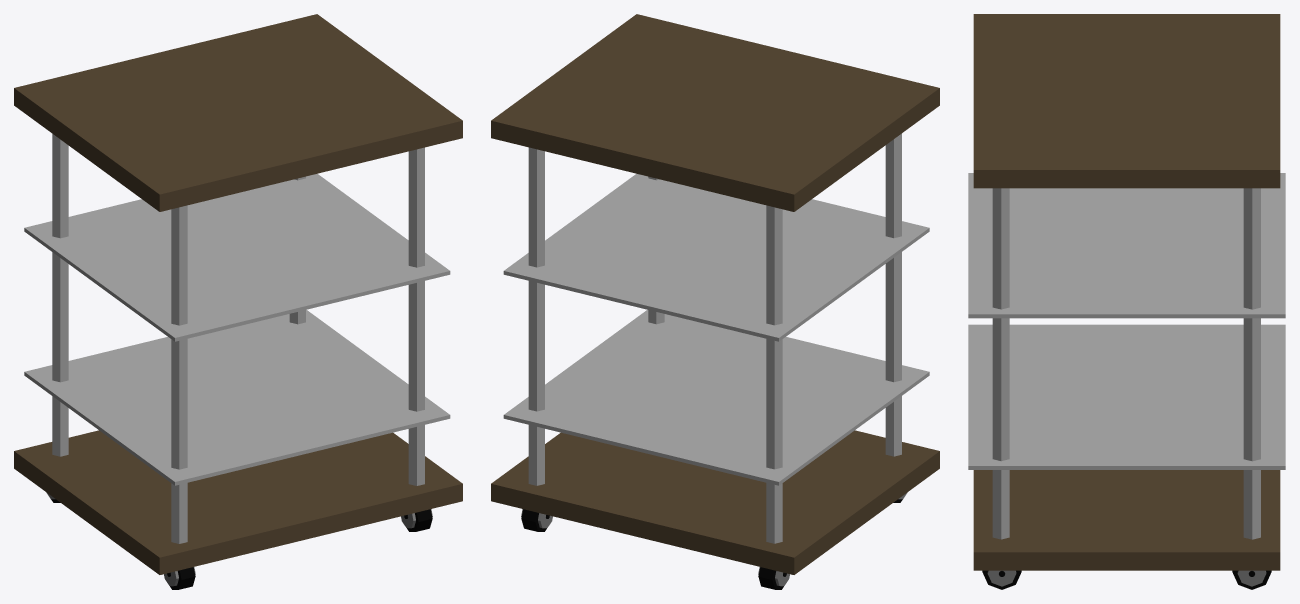
File: obstaculo_movible_croissant.fbx
3 views of the same model, side by side, from view 1: azimuth 30°, elevation 25°; view 2: azimuth 150°, elevation 25°; view 3: azimuth 270°, elevation 25° (orthographic). The views are drawn at different scales.
Visible parts, largest first — view 1: pCube56; view 2: pCube56; view 3: pCube56.
Boxes of the visible parts, <box> form: pCube56: <box>14,14,462,589</box>; pCube56: <box>491,14,939,589</box>; pCube56: <box>968,14,1285,589</box>.
Size of the model in its own units: 6.93 by 8.99 by 5.96.
